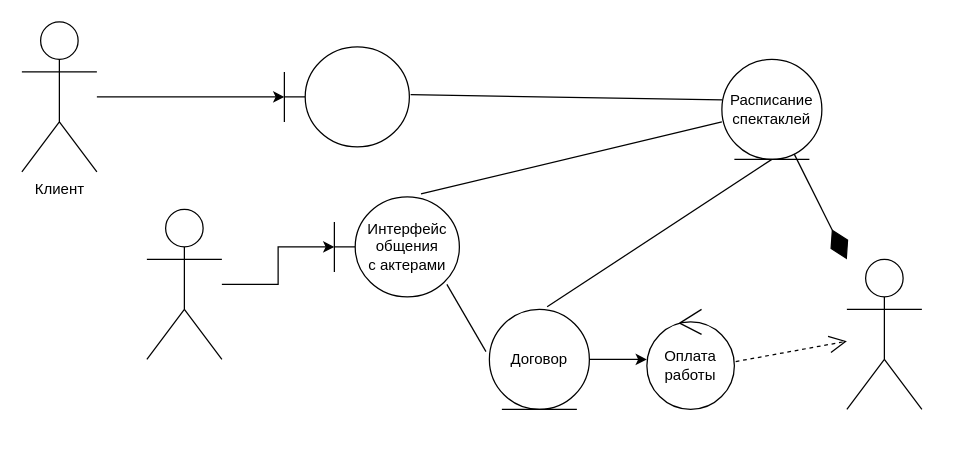
Image size: 973x458. Some labels were removed from this diagram. The shapes that lost their labels are listed below. From the top down, each one's centre as x and y in pixels, then its label:
At point (346, 96): "Сайт Кукольного театра".
At point (184, 283): "Руководитель кукольного театра".
At point (884, 333): "Актёры-кукольники".
